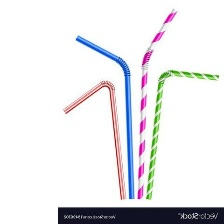drinking_straw: (72, 30, 138, 199), (144, 66, 222, 202), (132, 3, 184, 199), (60, 76, 128, 199)
